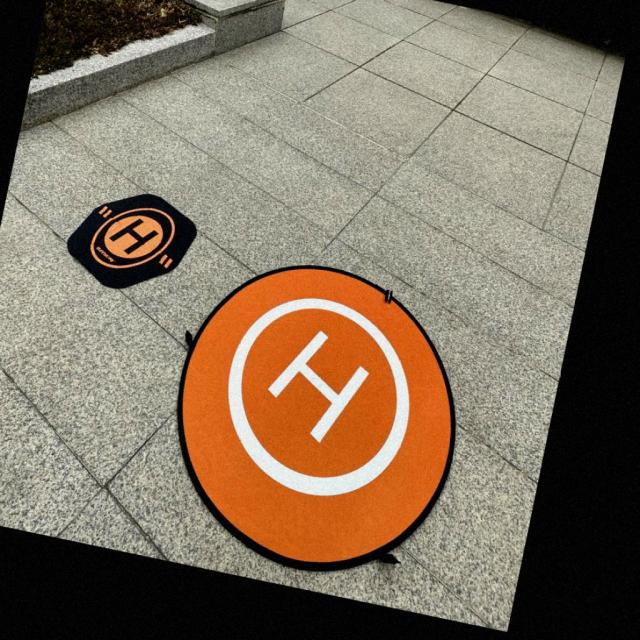helipad: (224, 292, 411, 500), (87, 204, 174, 271)
